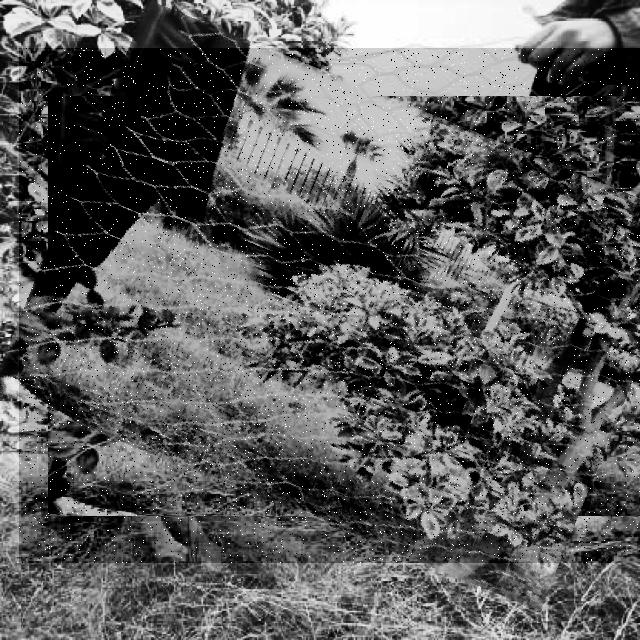fences: (19, 48, 640, 563)
